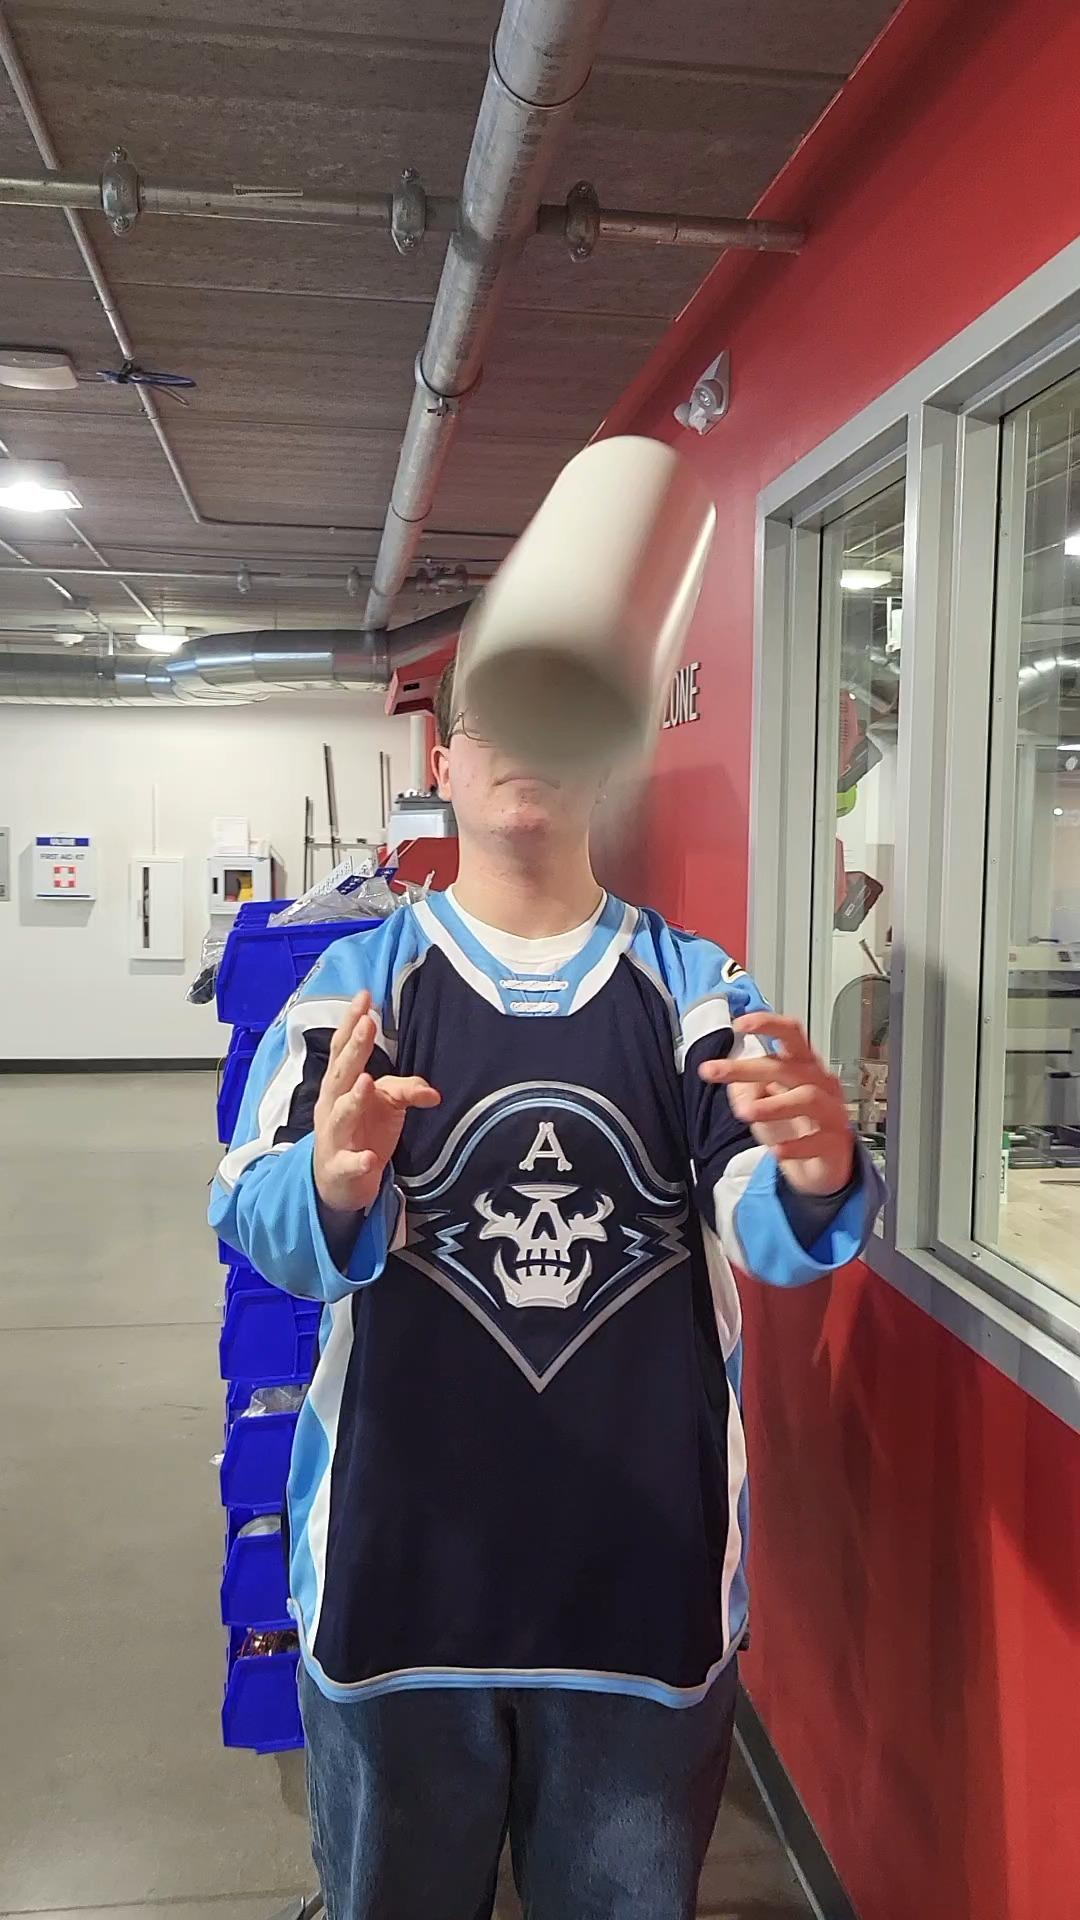coral: (456, 427, 727, 810)
